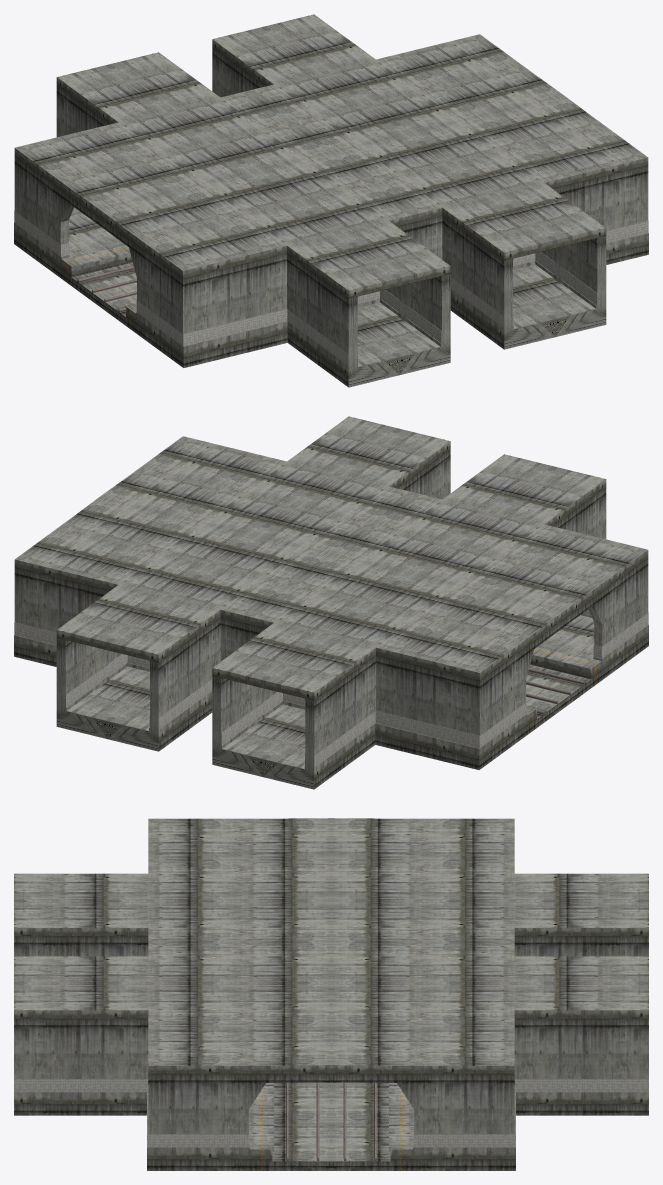
The model's file is metroStation.FBX.
3 views of the same model, one above another, from view 1: azimuth 30°, elevation 25°; view 2: azimuth 150°, elevation 25°; view 3: azimuth 270°, elevation 25° (orthographic). The views are drawn at different scales.
Parts seen in each view (by area): view 1: Box029; view 2: Box029; view 3: Box029.
Boxes of the visible parts, bbox=[...] form: Box029: bbox=[14, 14, 648, 387]; Box029: bbox=[14, 416, 648, 789]; Box029: bbox=[14, 818, 648, 1170].
Bounding box in the file's own units: 619 × 124 × 673.
4 materials, 4 textured.
